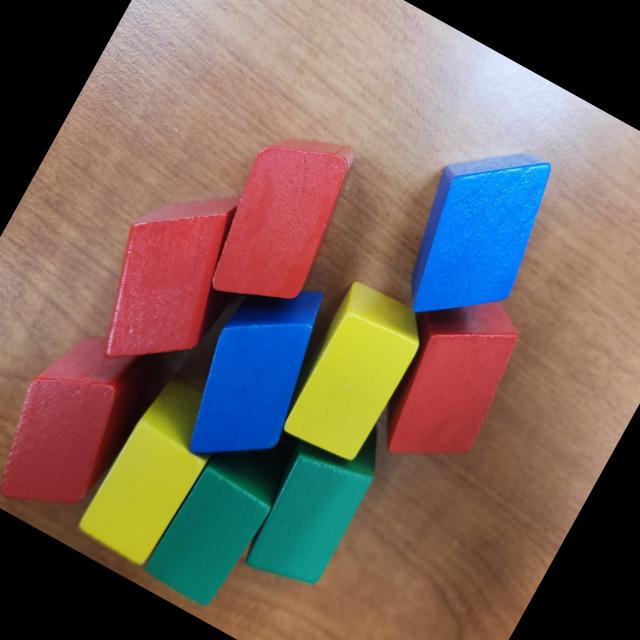blue: (376, 119, 575, 348), (161, 256, 354, 488)
green: (228, 390, 402, 602), (140, 424, 296, 614)
red: (68, 160, 271, 396), (348, 266, 542, 488), (188, 110, 375, 330), (0, 310, 166, 536)
yellow: (73, 367, 237, 571), (272, 276, 436, 470)
